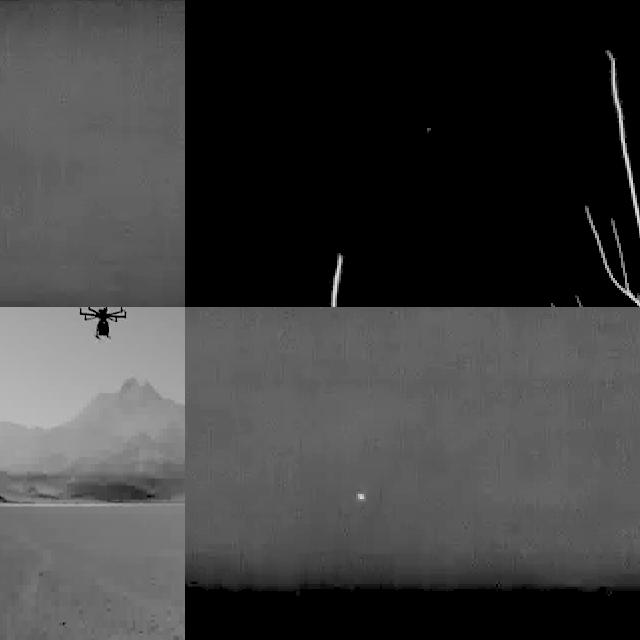0: (413, 118, 437, 146)
1: (341, 484, 373, 516)
drone: (75, 307, 128, 342)
